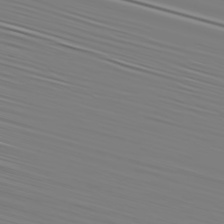cavities: (98, 63, 174, 122)
